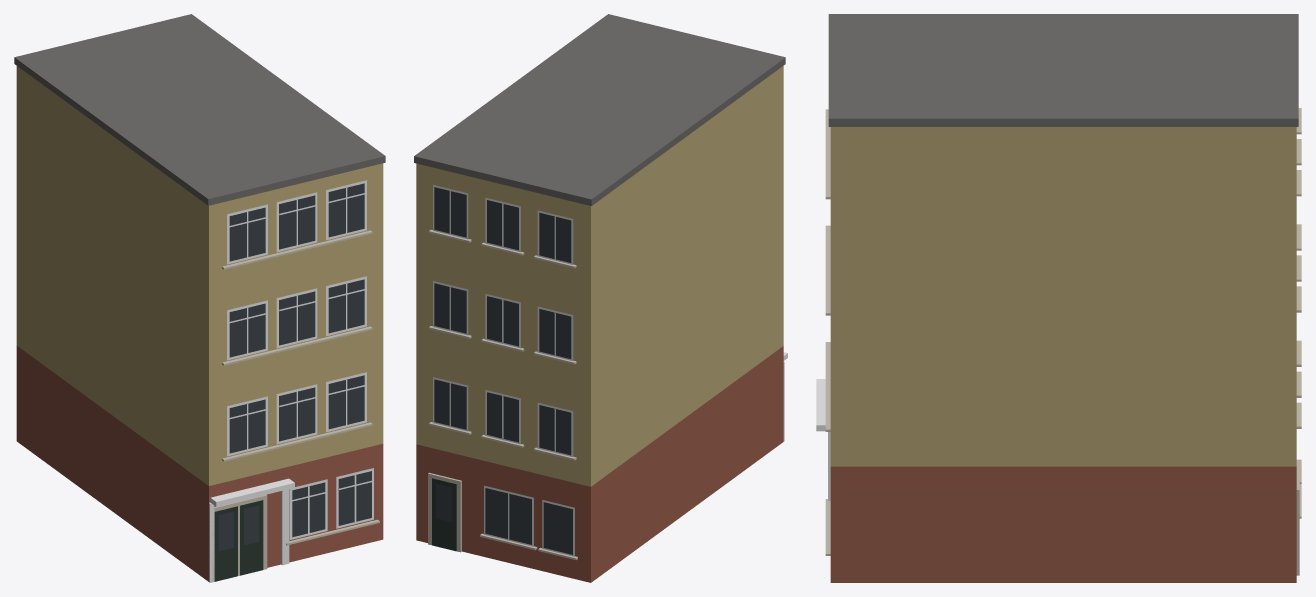
File: we-or-three__shackleton__4__flat__long__solid.glb
3 renders of one model, left to right at view 1: azimuth 30°, elevation 25°; view 2: azimuth 150°, elevation 25°; view 3: azimuth 270°, elevation 25°, orthographic. The views are drawn at different scales.
Parts seen in each view (by area): view 1: we-or-three__shackleton__4__flat__long__solid; view 2: we-or-three__shackleton__4__flat__long__solid; view 3: we-or-three__shackleton__4__flat__long__solid.
Boxes of the visible parts, box(x1,y1,x2,y2) form: we-or-three__shackleton__4__flat__long__solid: box(14, 14, 385, 582); we-or-three__shackleton__4__flat__long__solid: box(414, 14, 787, 582); we-or-three__shackleton__4__flat__long__solid: box(816, 14, 1301, 582).
Size of the model in its own units: 6.09 by 12.6 by 11.91.
